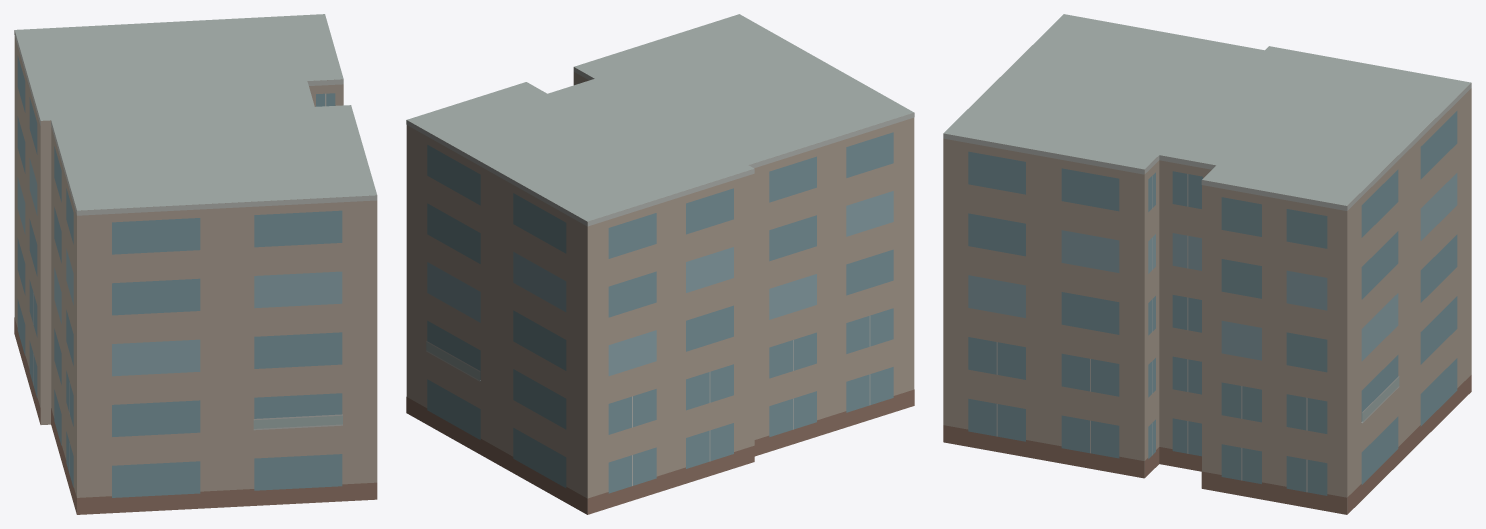
The model's file is survey-upis-32637147.glb.
3 renders of one model, left to right at view 1: azimuth 30°, elevation 25°; view 2: azimuth 150°, elevation 25°; view 3: azimuth 270°, elevation 25°, orthographic. The views are drawn at different scales.
Parts seen in each view (by area): view 1: survey-upis-32637147.tmp; view 2: survey-upis-32637147.tmp; view 3: survey-upis-32637147.tmp.
Part boxes in pixels (x1,y1,x2,y2): survey-upis-32637147.tmp: [14, 14, 377, 514]; survey-upis-32637147.tmp: [406, 14, 914, 514]; survey-upis-32637147.tmp: [943, 14, 1471, 514].
Bounding box in the file's own units: 19.47 × 14.6 × 22.64.
